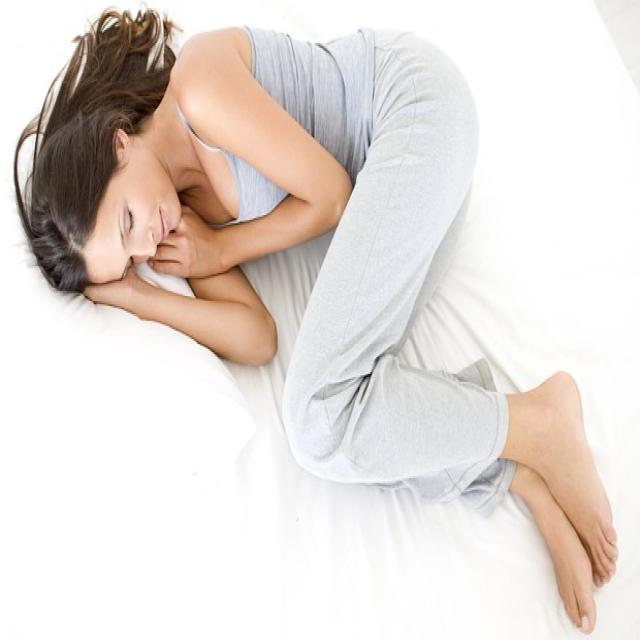sleeping-person: (17, 2, 619, 633)
